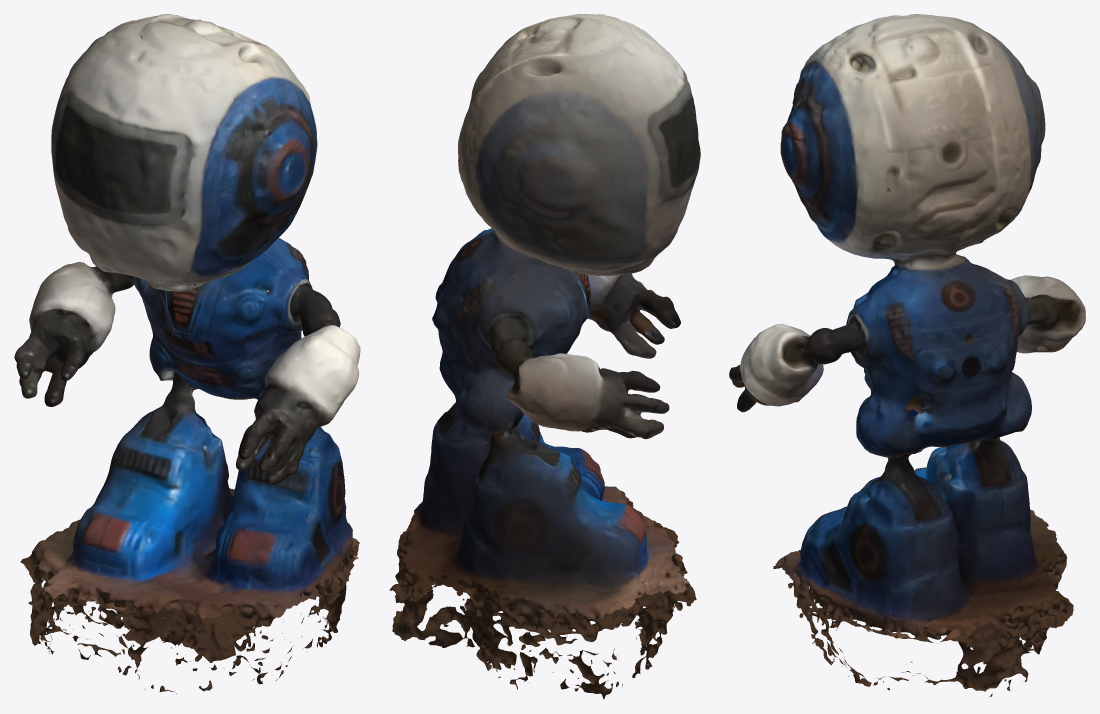
The model's file is vxfGt70xEyQ4xcj1.glb.
The picture shows the model from 3 angles, left to right: view 1: azimuth 30°, elevation 25°; view 2: azimuth 150°, elevation 25°; view 3: azimuth 270°, elevation 25°; orthographic projection. The views are drawn at different scales.
Bounding box in the file's own units: 1.26 × 2.55 × 1.31.
Materials: 17 (17 with a texture image).
